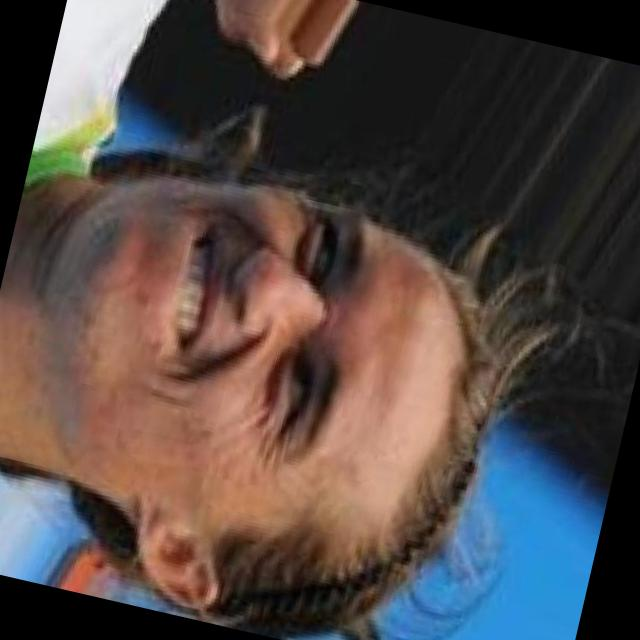bareface: (13, 110, 525, 640)
